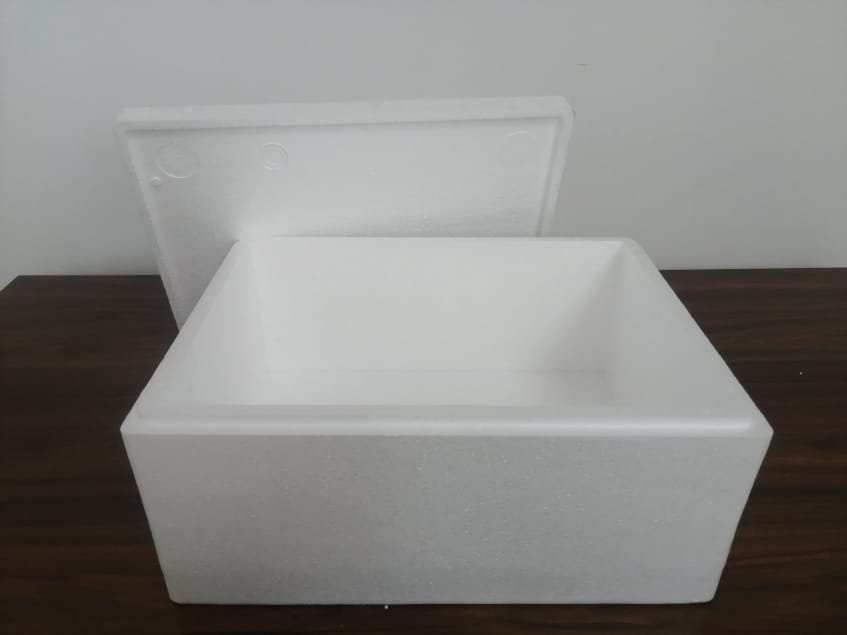泡沫箱: (122, 99, 771, 604)
